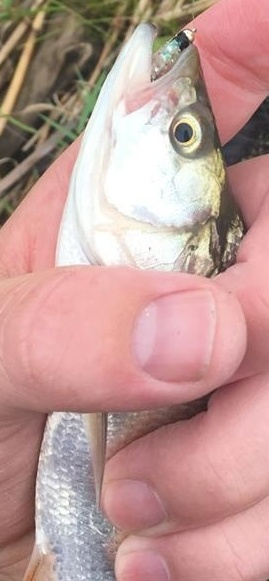Aspius aspius: (20, 20, 249, 581)
